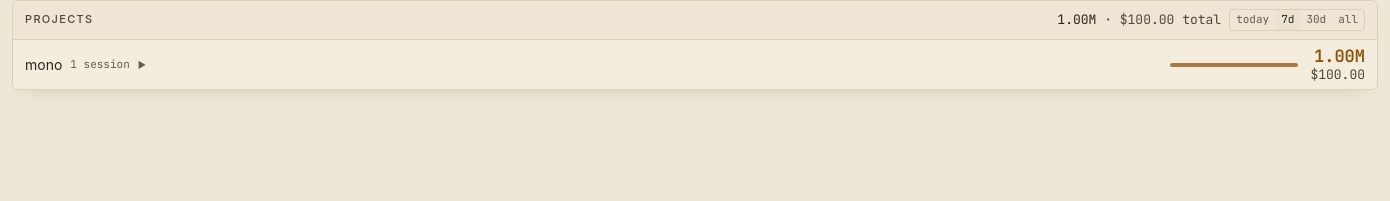
Test: ProjectsPanel figures › floors a share and never shows a real spend as a bare 0%
Click the button titled "mono: show cost by directory": (44, 64) [13,40,1377,89]
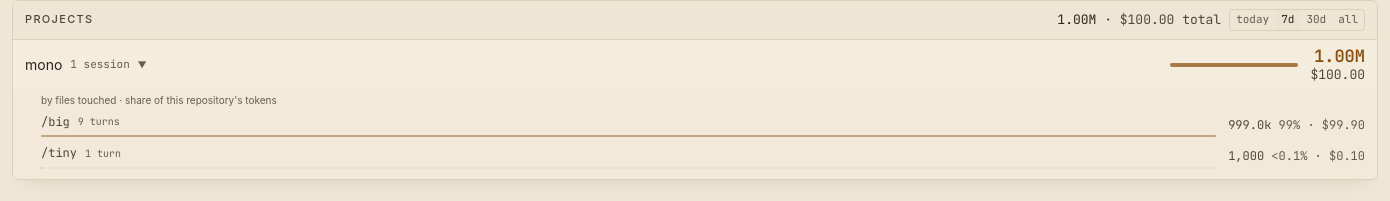
Now the element showing "999.0k 99% · $99.90" is shown, box [1228,117,1365,134]
